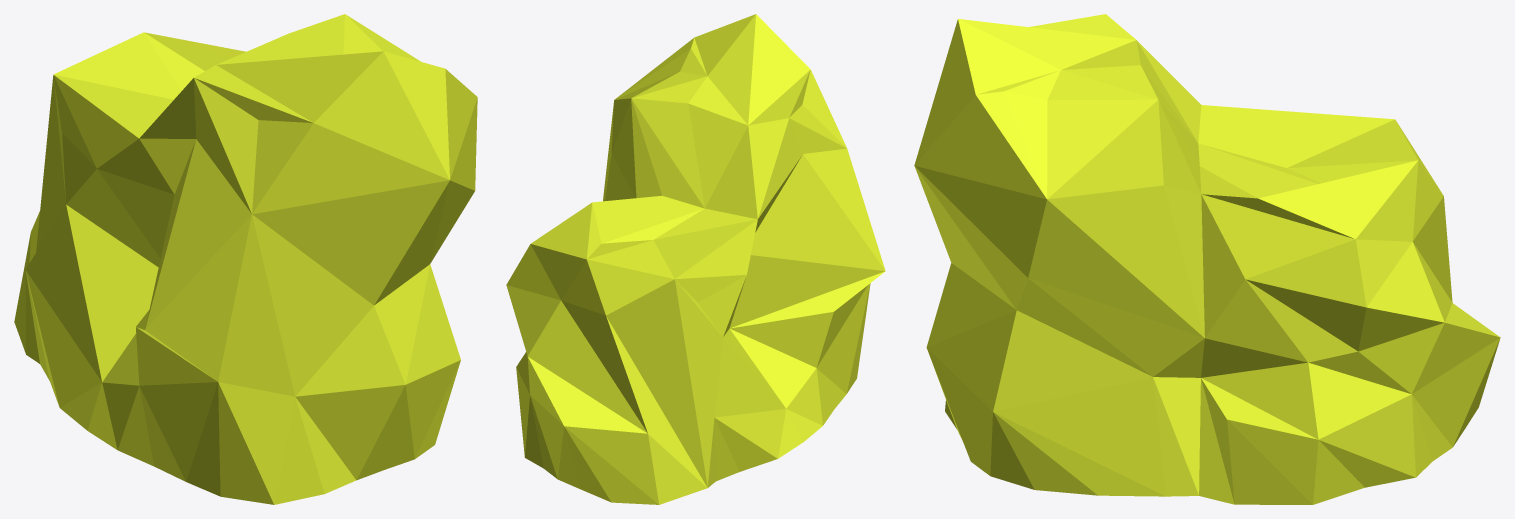
The model's file is CoralRock_4.fbx.
3 views of the same model, side by side, from view 1: azimuth 30°, elevation 25°; view 2: azimuth 150°, elevation 25°; view 3: azimuth 270°, elevation 25° (orthographic). The views are drawn at different scales.
Parts seen in each view (by area): view 1: CoralRock_4; view 2: CoralRock_4; view 3: CoralRock_4.
Part boxes in pixels (box(x1,y1,x2,y2)): CoralRock_4: box(14, 14, 477, 504); CoralRock_4: box(506, 14, 885, 504); CoralRock_4: box(914, 14, 1500, 504).
Bounding box in the file's own units: 4189 × 4953 × 6200.
